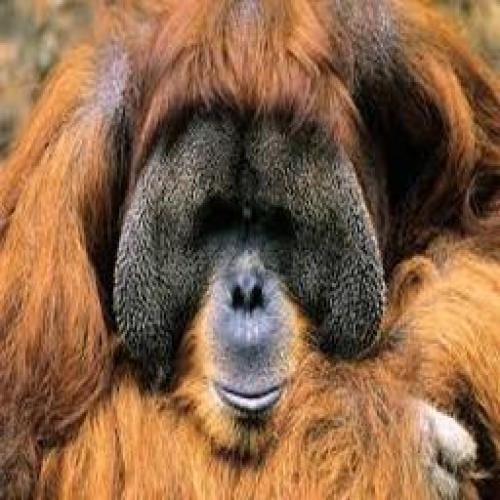orangutan-endangered: (40, 0, 478, 500)
